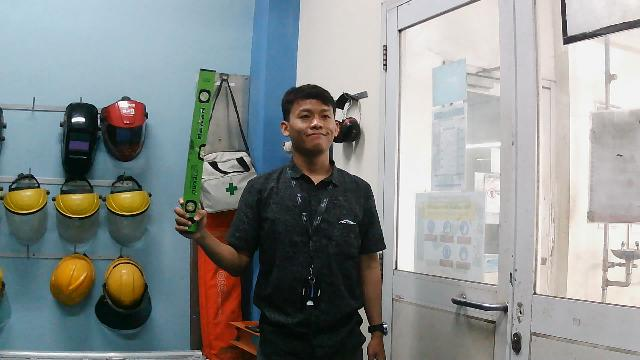water_pass: (173, 64, 221, 236)
